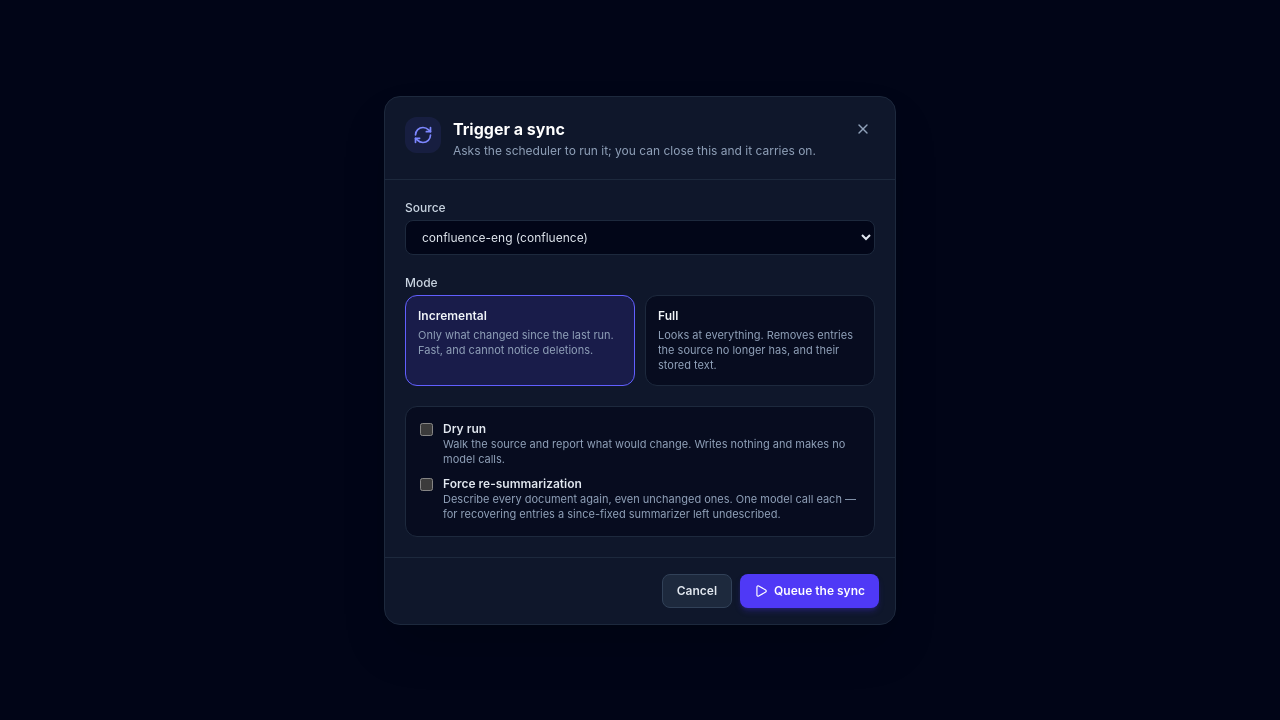
Test: TriggerSyncModal › follows the request from queued to finished and links its report
Click the button "Queue the sync" at (810, 590), box [740,574,879,608]
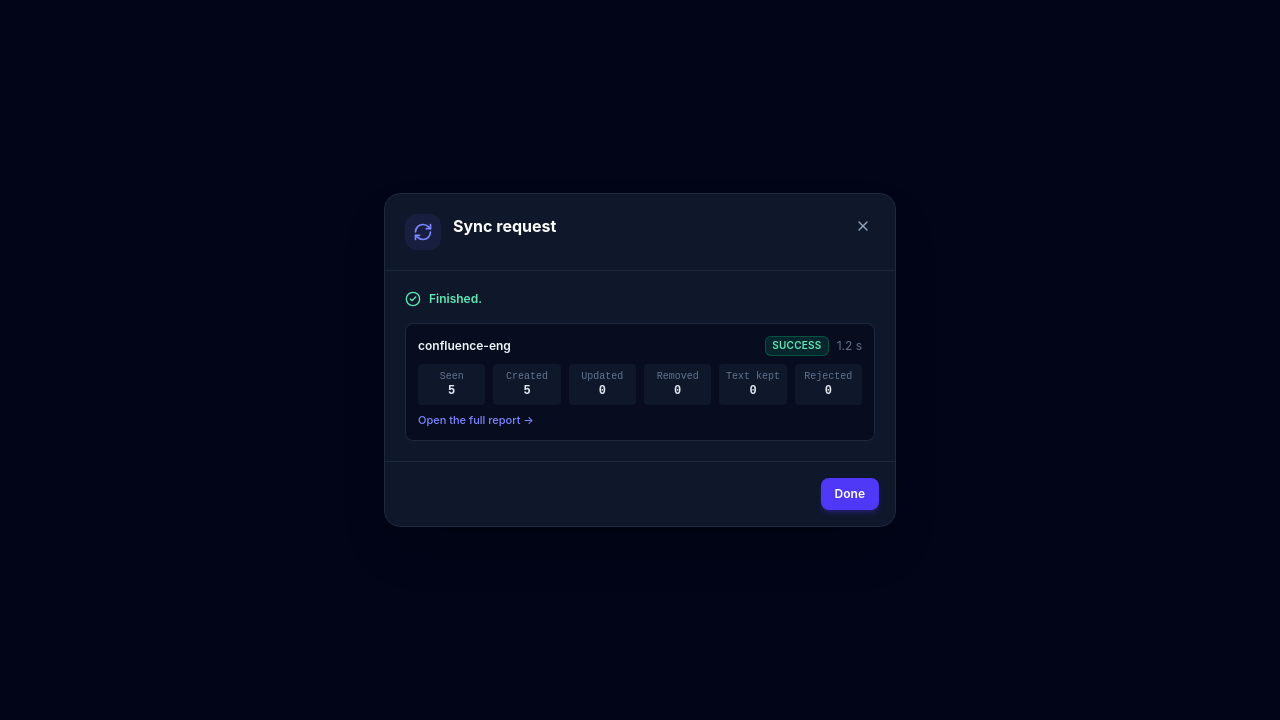
Now the text "Finished." is shown, box [405,291,482,307]
Now the button "Open the full report →" is shown, box [418,413,534,428]
